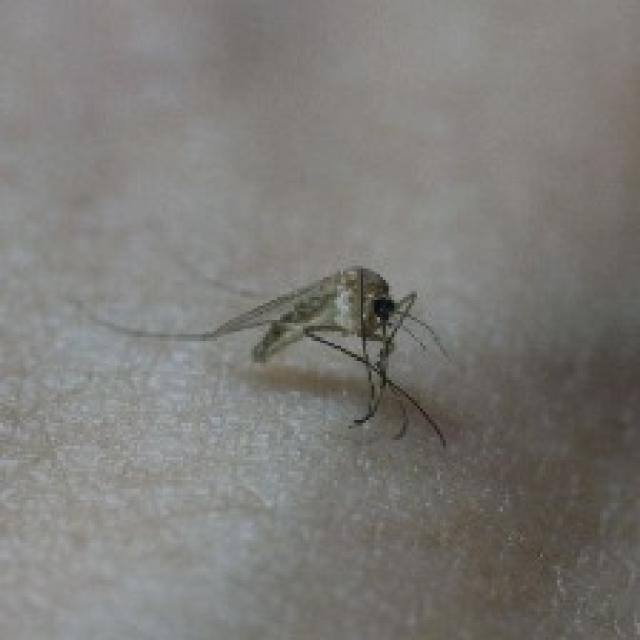culex: (66, 263, 451, 448)
